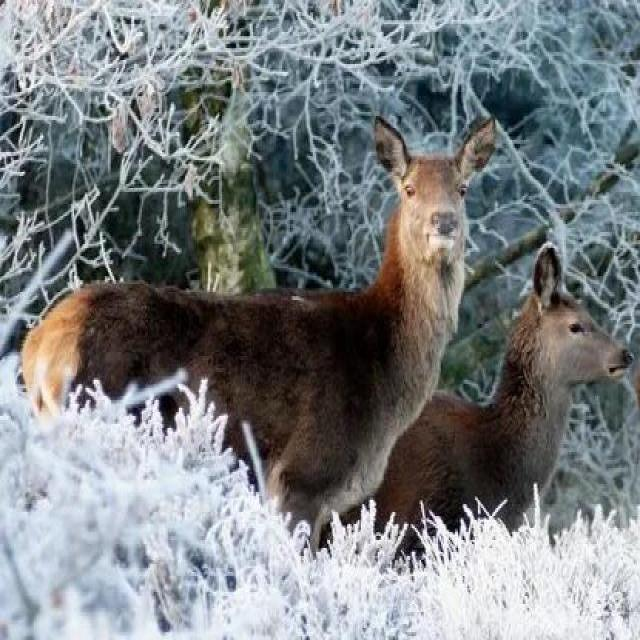deer: (75, 76, 574, 591), (430, 247, 607, 508)
